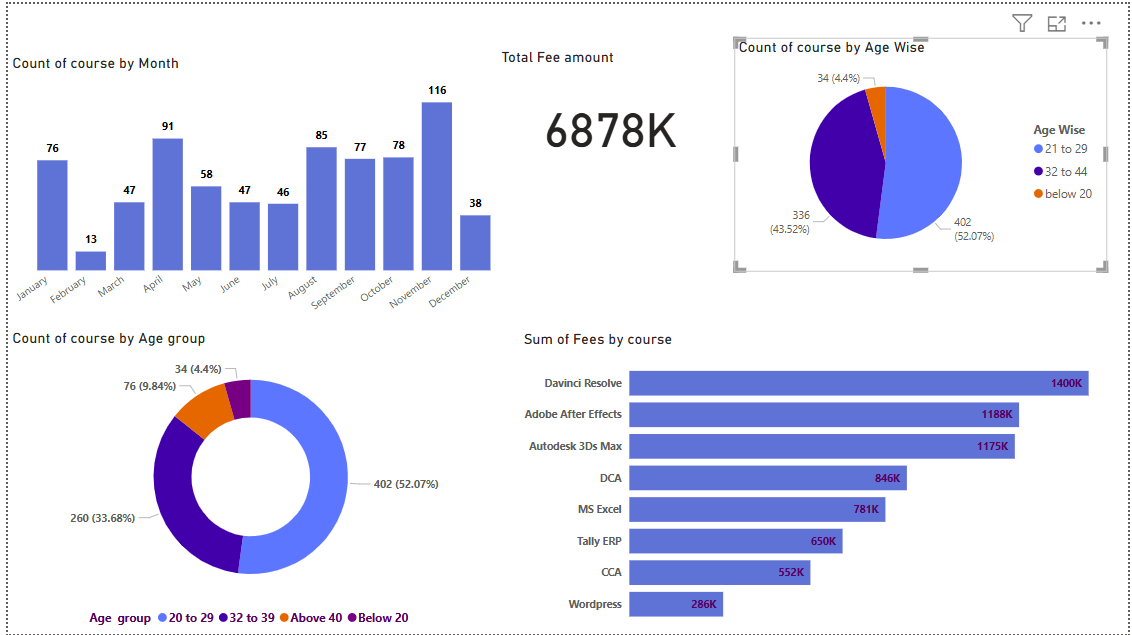

The page's visual inventory and layout, read from the dashboard file:
{"tool":"powerbi","page":{"name":"Student report","canvas":[1280,720],"ordinal":0},"visuals":[{"type":"columnChart","fields":{"Category":["Student Course Details.Date of Join.Variation.Date Hierarchy.Year","Student Course Details.Date of Join.Variation.Date Hierarchy.Quarter","Student Course Details.Date of Join.Variation.Date Hierarchy.Month","Student Course Details.Date of Join.Variation.Date Hierarchy.Day"],"Y":["CountNonNull(Student Course Details.course)"]},"box":[0,57.5,574.7,315.5],"z":0},{"type":"donutChart","fields":{"Y":["CountNonNull(Student Course Details.course)"],"Category":["Student Course Details.Age (bins)"]},"box":[0,371.7,555.2,348.5],"z":1000},{"type":"clusteredBarChart","fields":{"Category":["Student Course Details.course"],"Y":["Sum(Student Course Details.Fees)"]},"box":[583.8,372.5,696.2,347.5],"z":2000},{"type":"card","title":"Total Fee amount","fields":{"Values":["Sum(Student Course Details.Fees)"]},"box":[557.6,92.9,259.2,155.3],"z":3000},{"type":"pieChart","fields":{"Y":["CountNonNull(Student Course Details.course)"],"Category":["Student Course Details.Age Wise"]},"box":[816.9,92.9,425.5,266.6],"z":4000}]}

Visuals, with their boxes in screenshot pixels (x1, y1, x2, y2), scaled from the page's 1280x720 canvas onto the 1132x635 screenshot:
columnChart - Student Course Details.Date of Join.Variation.Date Hierarchy.Year x Student Course Details.Date of Join.Variation.Date Hierarchy.Quarter: {"left": 0, "top": 51, "right": 508, "bottom": 329}
donutChart - CountNonNull(Student Course Details.course) x Student Course Details.Age (bins): {"left": 0, "top": 328, "right": 491, "bottom": 634}
clusteredBarChart - Student Course Details.course x Sum(Student Course Details.Fees): {"left": 516, "top": 329, "right": 1131, "bottom": 634}
"Total Fee amount" card: {"left": 493, "top": 82, "right": 722, "bottom": 219}
pieChart - CountNonNull(Student Course Details.course) x Student Course Details.Age Wise: {"left": 722, "top": 82, "right": 1099, "bottom": 317}
